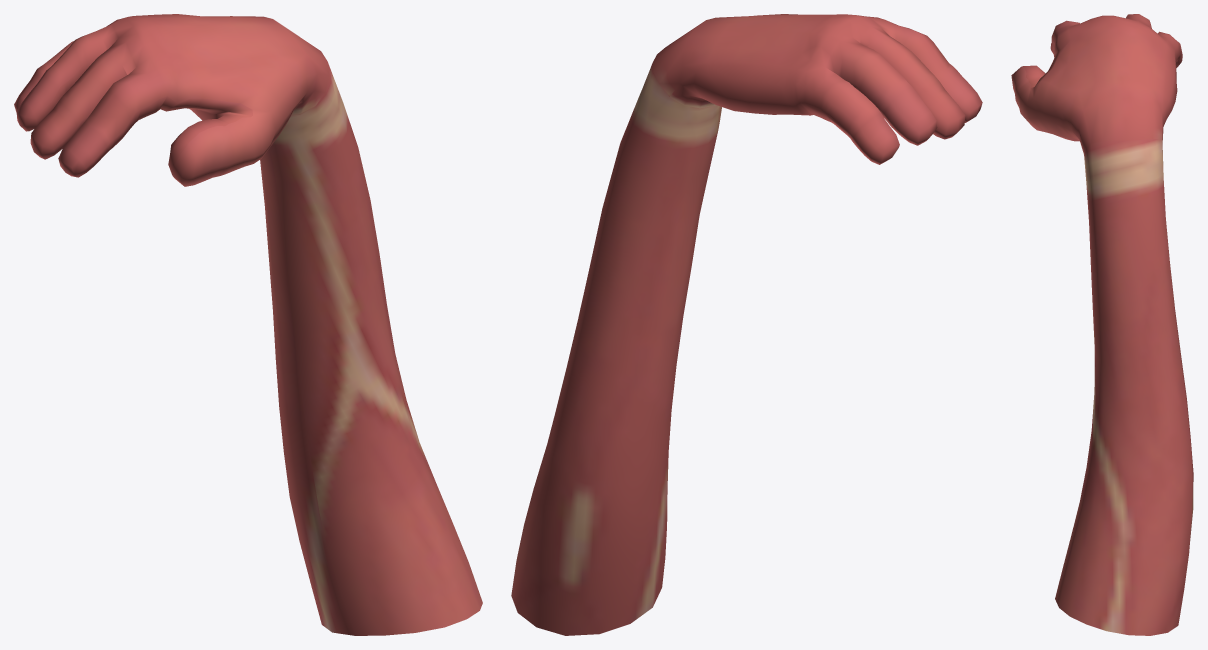
Rendered from Hand.fbx.
The picture shows the model from 3 angles, left to right: view 1: azimuth 30°, elevation 25°; view 2: azimuth 150°, elevation 25°; view 3: azimuth 270°, elevation 25°; orthographic projection. The views are drawn at different scales.
Visible parts, largest first — view 1: Titan_Hand, Finger_1, Finger_2, Finger_3; view 2: Titan_Hand, Finger_3, Finger_4, Finger_2, Finger_1; view 3: Titan_Hand.
Part boxes in pixels (box(x1,y1,x2,y2)): Titan_Hand: box(98, 14, 482, 635); Finger_1: box(58, 74, 149, 177); Finger_2: box(30, 48, 126, 159); Finger_3: box(16, 30, 104, 131); Titan_Hand: box(511, 14, 908, 635); Finger_3: box(841, 45, 937, 145); Finger_4: box(813, 74, 899, 164); Finger_2: box(868, 34, 965, 139); Finger_1: box(895, 27, 982, 122); Titan_Hand: box(1011, 15, 1193, 635).
Size of the model in its own units: 410 by 591 by 192.
